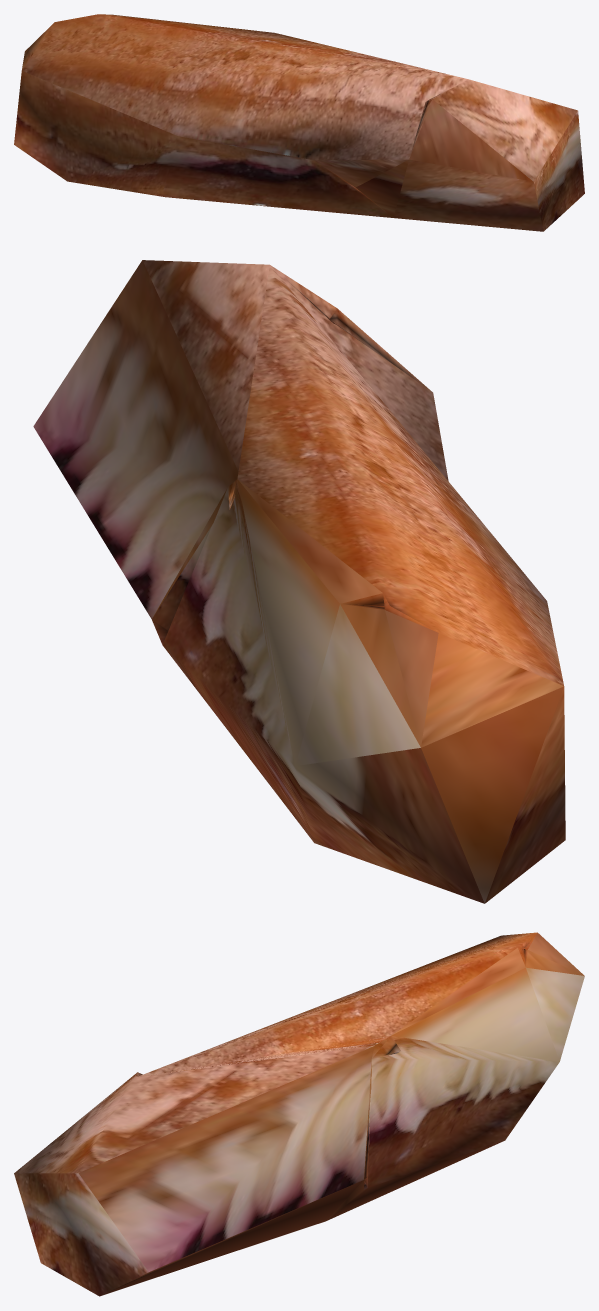
File: eclaire_138.obj
3 renders of one model, top to bottom at view 1: azimuth 30°, elevation 25°; view 2: azimuth 150°, elevation 25°; view 3: azimuth 270°, elevation 25°, orthographic. The views are drawn at different scales.
Bounding box in the file's own units: 92.32 × 30.35 × 91.13.
Materials: 1 (1 with a texture image).
